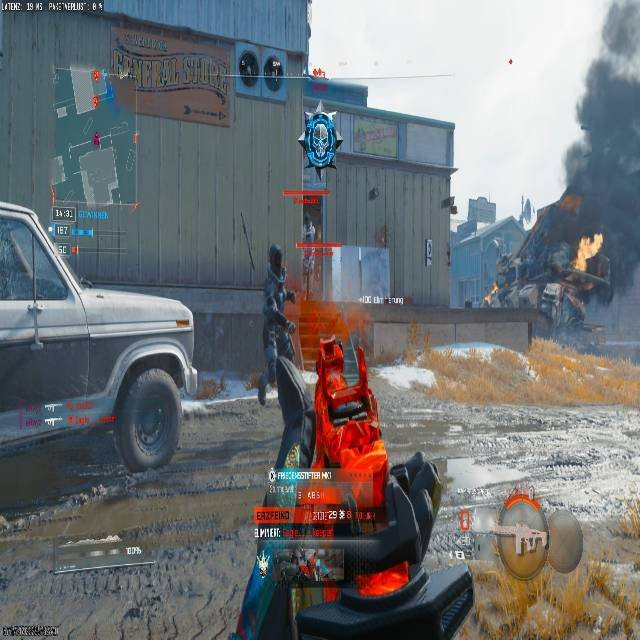head: (497, 485, 550, 569), (267, 246, 286, 273)
player: (465, 485, 639, 639), (316, 337, 346, 397), (299, 210, 317, 241)
